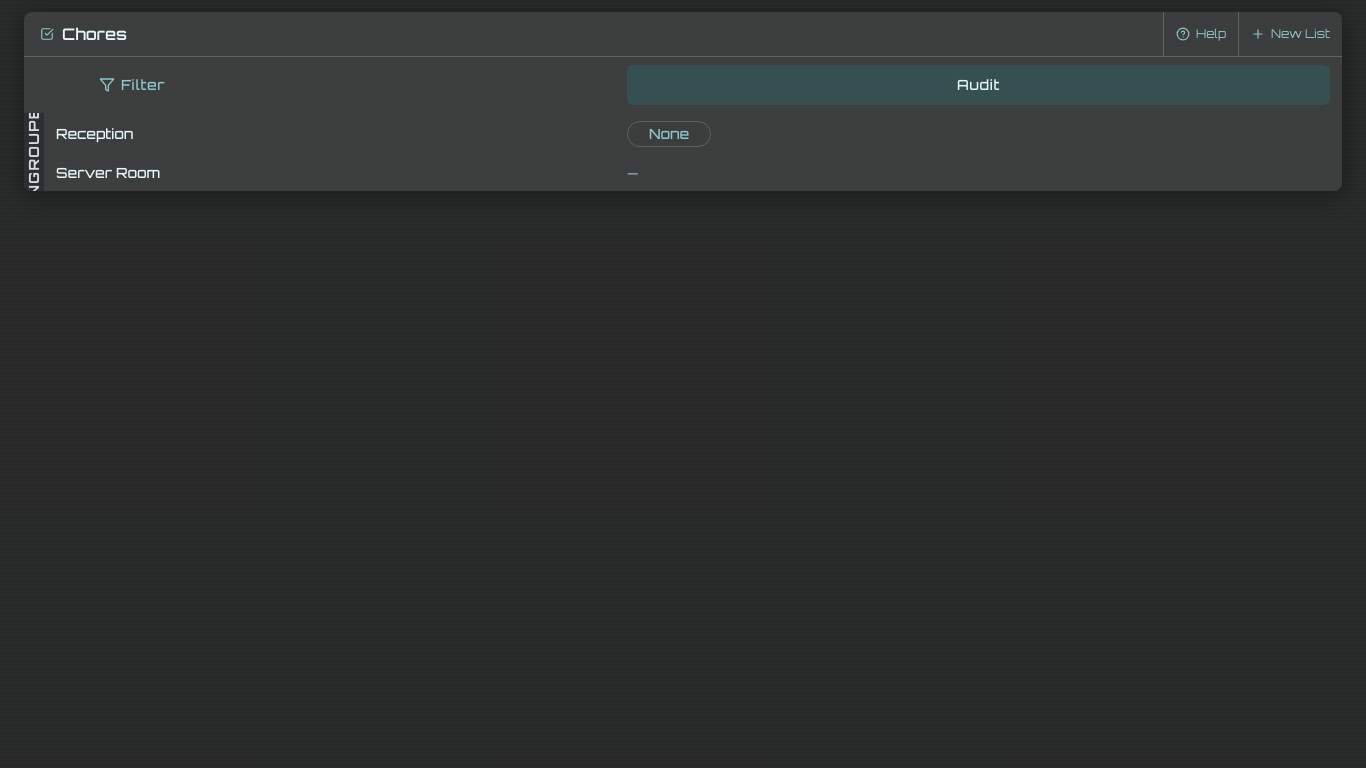
Test: ChoreListsView – column header edit dialog › saves the renamed list via editChoreList
Click the button "Audit" at point(979, 85), box [627,65,1330,105]
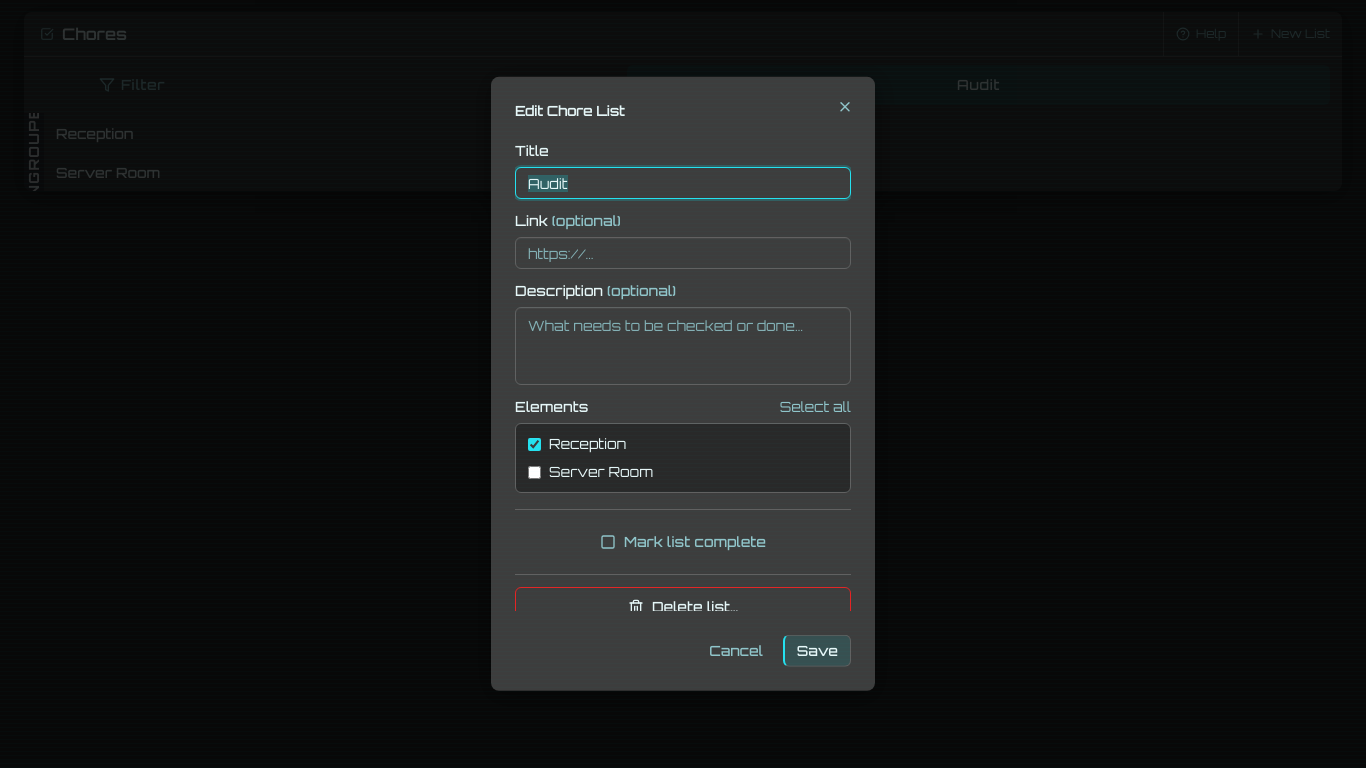
Replace the text in the field labelled "Title" with "Renamed" at point(683, 183), box [515,167,851,199]
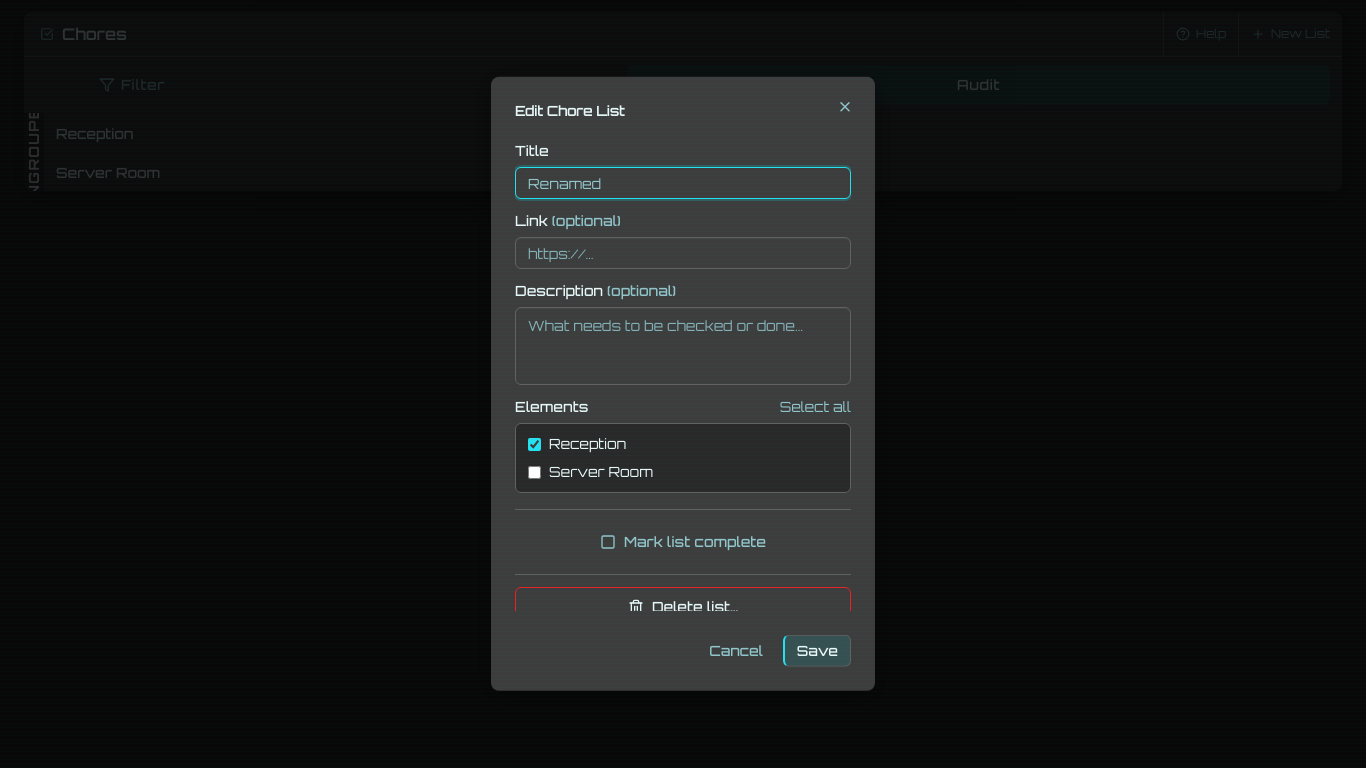
Click the button "Save" at point(817, 651), box [783,635,851,667]
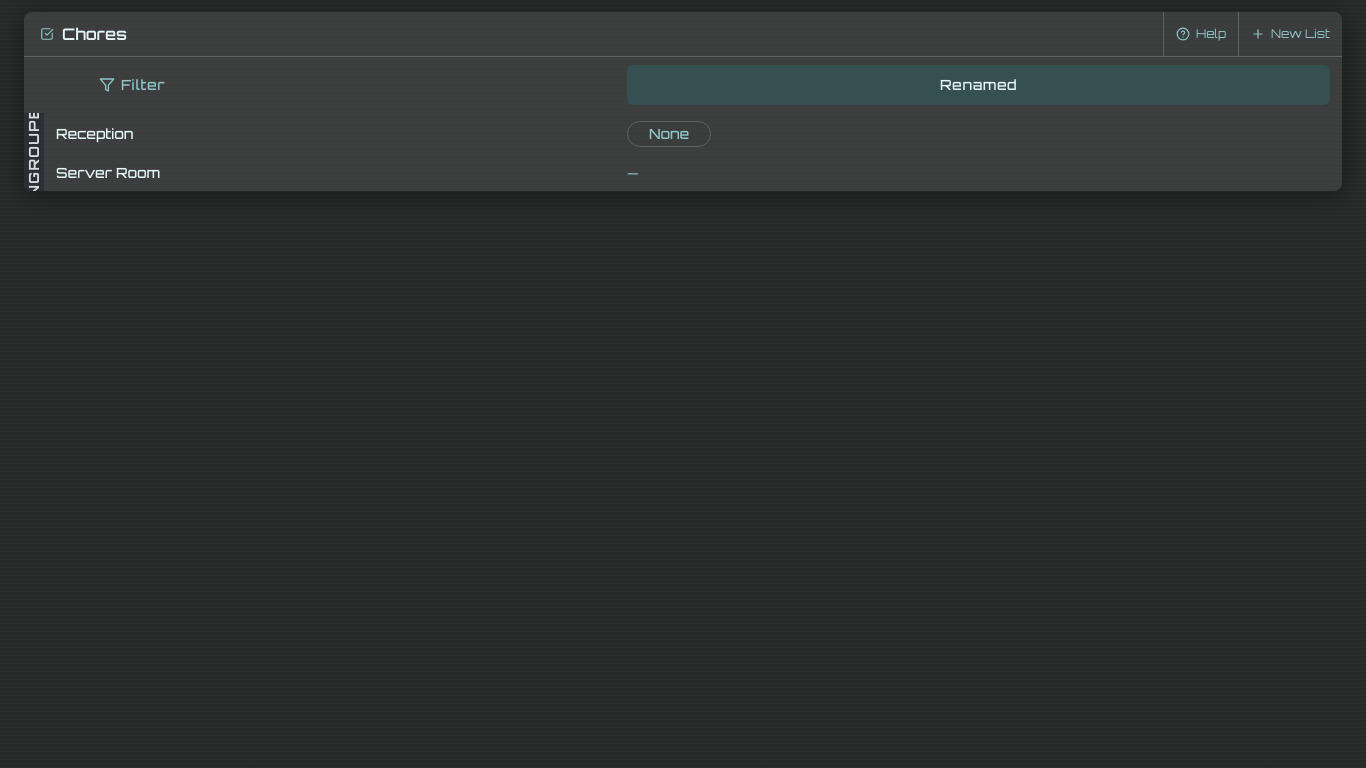
Expected: the column heading "Renamed" is shown, [615,57,1342,113]
